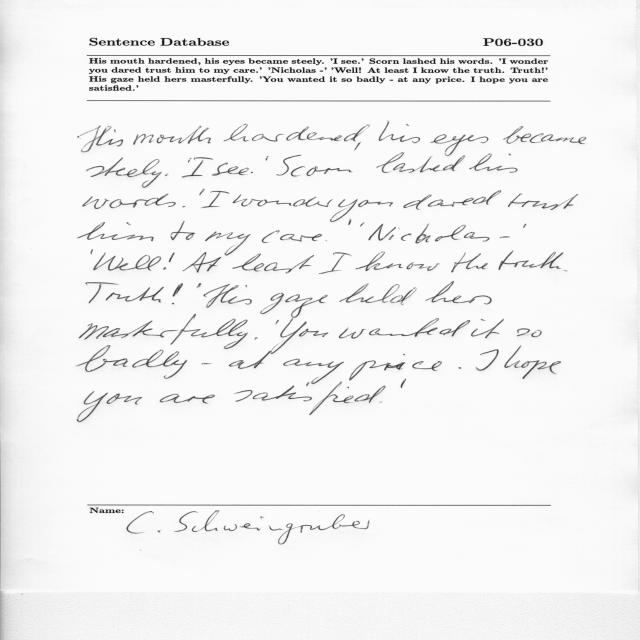word: (79, 317, 248, 349), (235, 382, 386, 415), (223, 124, 366, 150), (78, 345, 187, 379), (349, 354, 442, 388), (339, 318, 470, 339), (368, 224, 490, 244), (87, 157, 162, 188), (78, 391, 143, 422), (192, 284, 252, 317), (403, 190, 501, 210), (504, 345, 561, 379), (376, 153, 465, 173), (229, 340, 288, 369), (260, 293, 328, 318), (340, 283, 417, 305), (233, 254, 315, 274), (86, 282, 164, 303), (355, 252, 440, 271), (425, 282, 492, 305), (283, 359, 344, 384), (503, 126, 586, 144), (83, 193, 176, 209), (133, 126, 211, 145), (77, 222, 154, 241), (330, 199, 393, 222), (233, 194, 333, 207), (499, 250, 564, 270), (430, 134, 489, 156), (93, 253, 161, 271), (78, 126, 123, 153), (508, 193, 578, 210), (205, 232, 251, 256), (280, 318, 329, 340), (469, 153, 518, 173), (379, 121, 421, 143), (183, 252, 221, 273), (451, 253, 488, 273), (319, 252, 351, 274), (291, 166, 353, 177), (471, 319, 504, 338), (160, 394, 215, 404), (212, 163, 253, 176), (277, 155, 302, 176), (476, 349, 499, 371), (201, 191, 229, 208), (171, 221, 195, 240), (182, 160, 203, 178), (280, 234, 322, 242), (262, 230, 280, 243), (172, 283, 183, 304), (517, 328, 542, 337), (163, 253, 175, 270), (188, 157, 213, 163), (199, 189, 205, 195), (499, 236, 510, 238), (360, 222, 364, 227), (197, 283, 201, 288), (275, 320, 279, 324), (266, 156, 269, 161), (349, 220, 352, 225), (366, 124, 370, 127), (523, 224, 526, 228), (563, 270, 568, 272), (201, 363, 211, 364), (91, 250, 93, 254), (254, 338, 258, 340), (165, 174, 168, 176), (182, 206, 186, 207), (459, 367, 461, 369), (380, 402, 383, 403)
